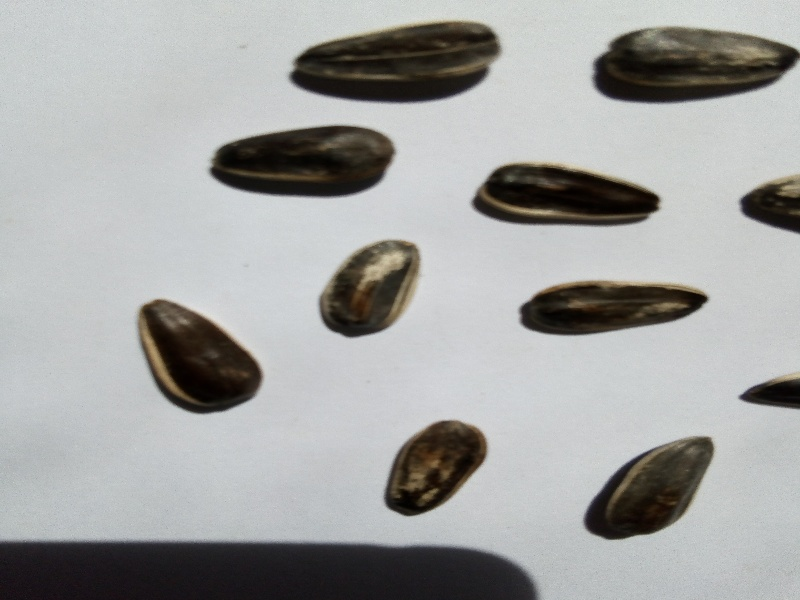girasol: (283, 6, 523, 98), (127, 292, 266, 418), (464, 150, 678, 231), (201, 118, 409, 201), (584, 429, 725, 546), (511, 270, 712, 343), (379, 409, 495, 520), (313, 232, 426, 344)
